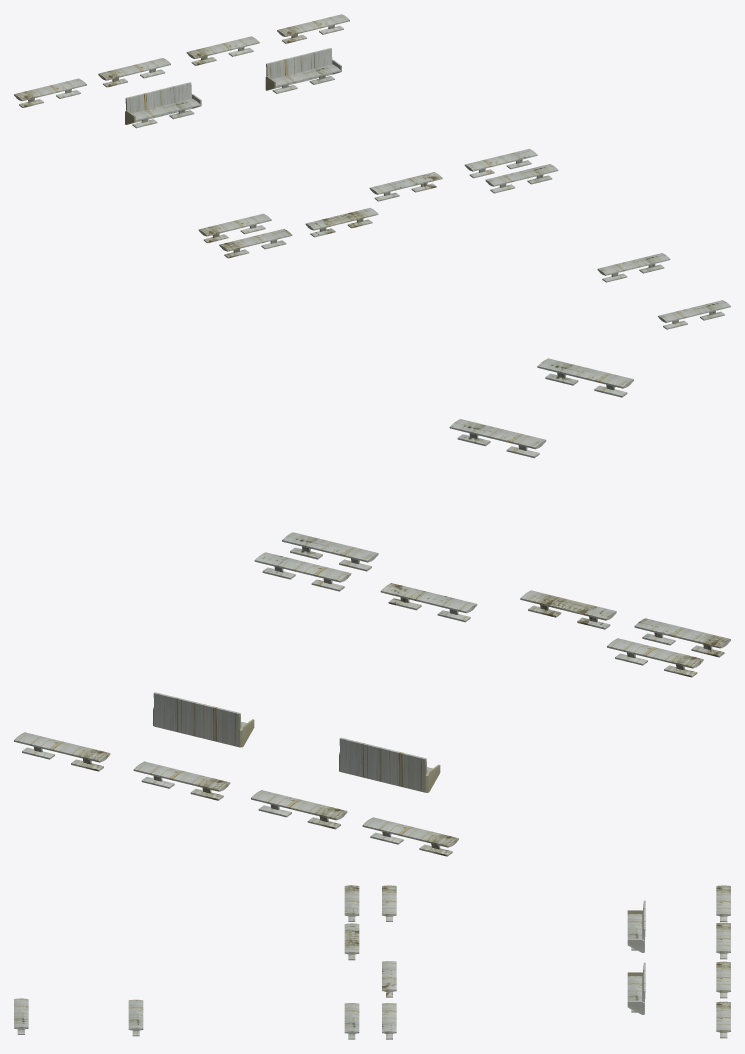
The model's file is SM_Republic_02_00.026.fbx.
The picture shows the model from 3 angles, top to bottom: view 1: azimuth 30°, elevation 25°; view 2: azimuth 150°, elevation 25°; view 3: azimuth 270°, elevation 25°; orthographic projection. The views are drawn at different scales.
Visible parts, largest first — view 1: SM_Republic_02_00.026; view 2: SM_Republic_02_00.026; view 3: SM_Republic_02_00.026.
Boxes of the visible parts, x1,y1,x2,y2 form: SM_Republic_02_00.026: (14,14,730,329); SM_Republic_02_00.026: (14,358,730,856); SM_Republic_02_00.026: (14,885,730,1039).
Bounding box in the file's own units: 2106 × 155 × 4368.
